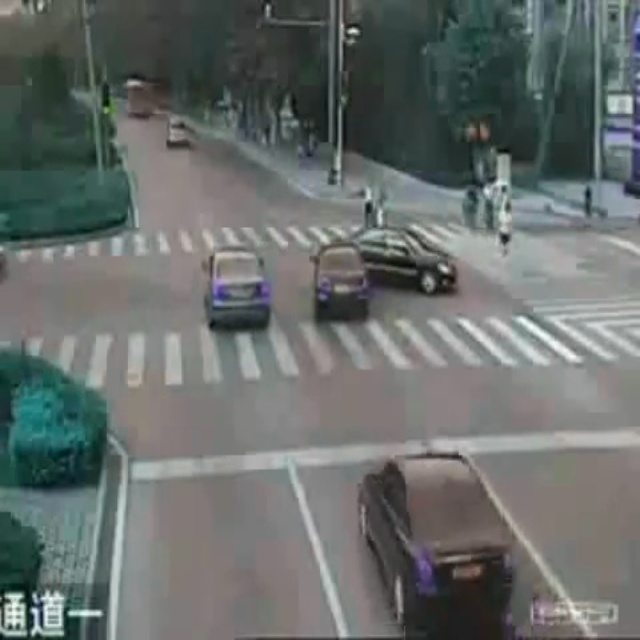acc: (307, 226, 458, 324)
